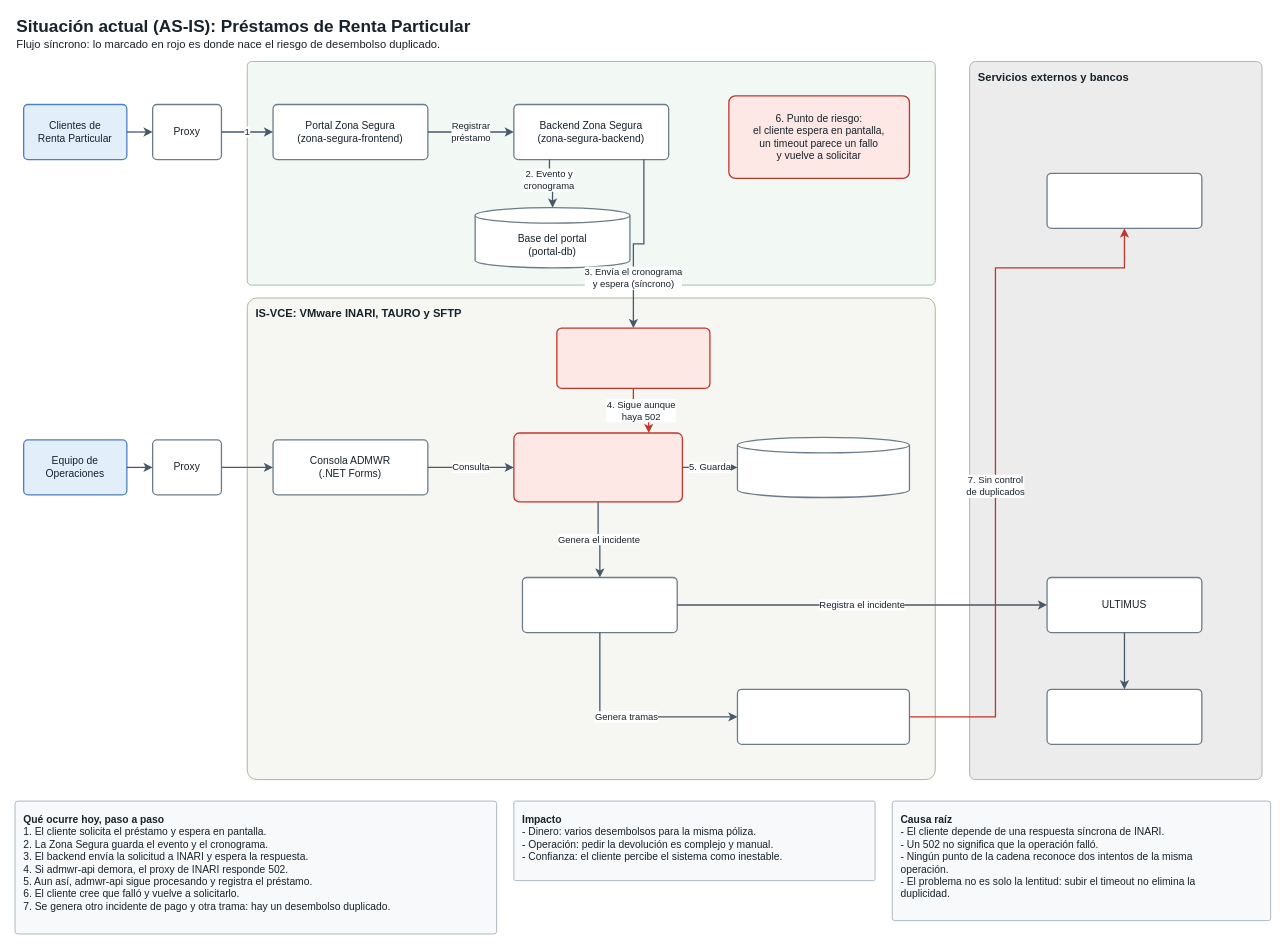
This 1286x949 diagram has some shape labels left out. The shapes that lost their labels are listed below. From the top down, each one's box as (x1, y1, x2, y2) in pixels, then its label:
(246, 61, 935, 285): GCP: zona privada de Interseguro / Zona Segura
(1046, 172, 1202, 229): SFTP de los bancos Desembolso real
(556, 327, 710, 389): Proxy de INARI responde 502 si hay lentitud o timeout
(513, 432, 683, 502): admwr-api Sigue procesando aunque ya hubo un 502
(736, 436, 910, 498): Base de préstamos (SQL Server en TAURO)
(521, 576, 678, 633): ultimus-api Incidente de pago
(736, 688, 910, 745): Servidor SFTP S42VP Tramas ASBANC
(1046, 688, 1202, 745): EXACTUS
